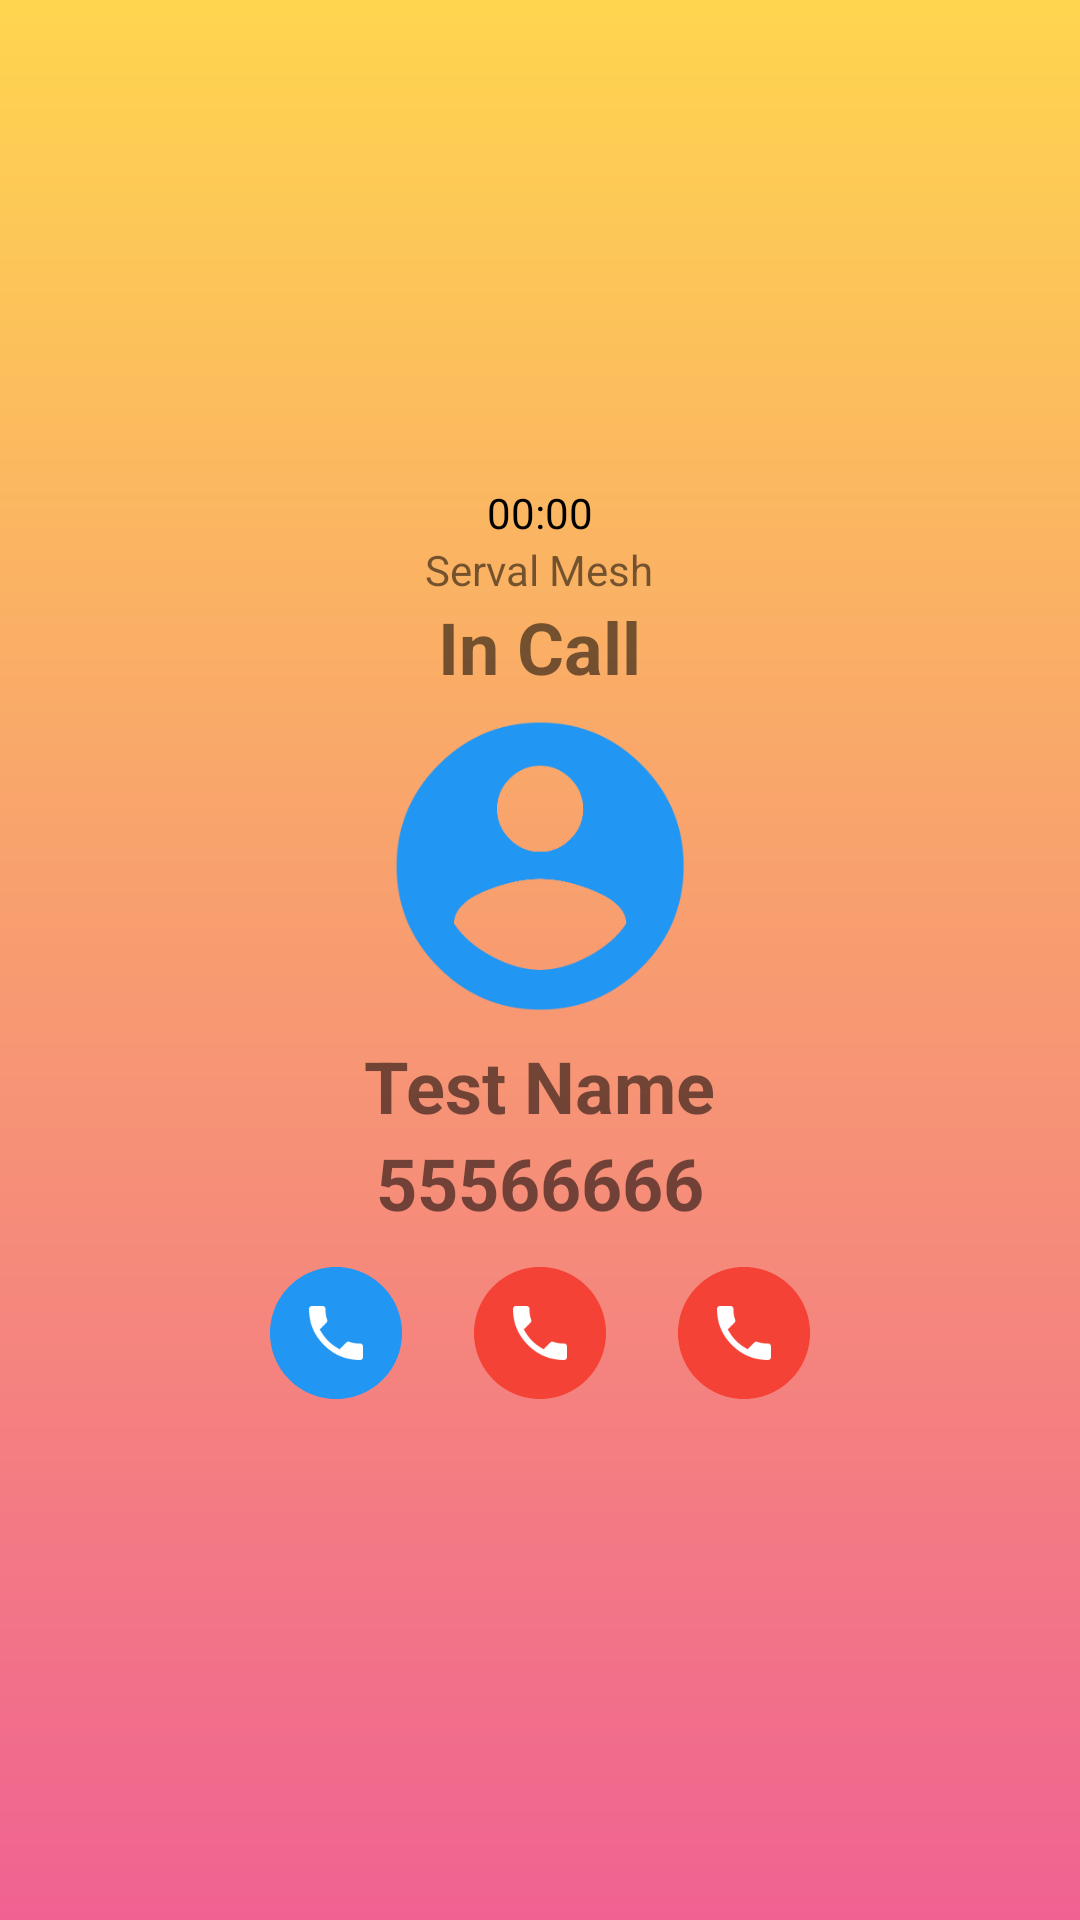

Icons on this 1080px×1920px Android screen, each with its box as (x1, y1, x2, y2):
Caller Image: (396, 722, 684, 1010)
phone answer: (270, 1267, 402, 1399)
phone decline: (474, 1267, 606, 1399), (678, 1267, 810, 1399)
